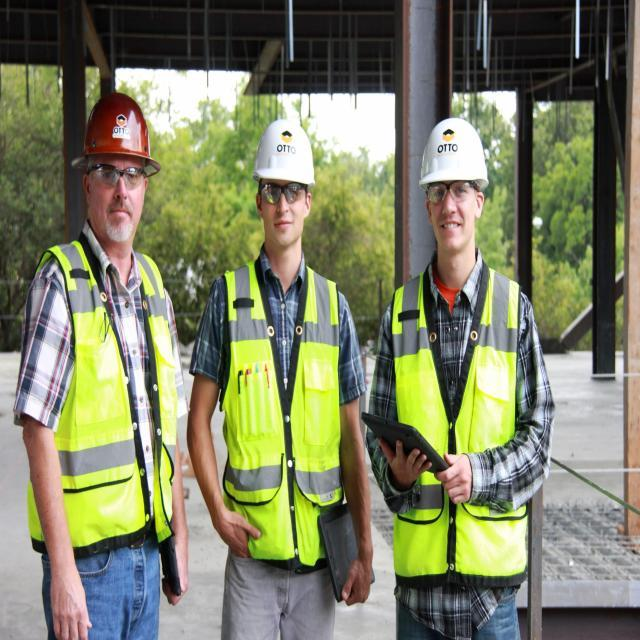Helmet: (66, 92, 164, 237), (246, 116, 321, 246)
Vest: (378, 264, 540, 590), (25, 244, 188, 543), (209, 263, 361, 519)
